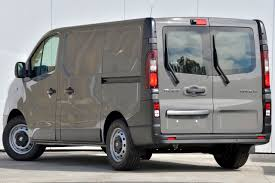car: (6, 17, 272, 170)
